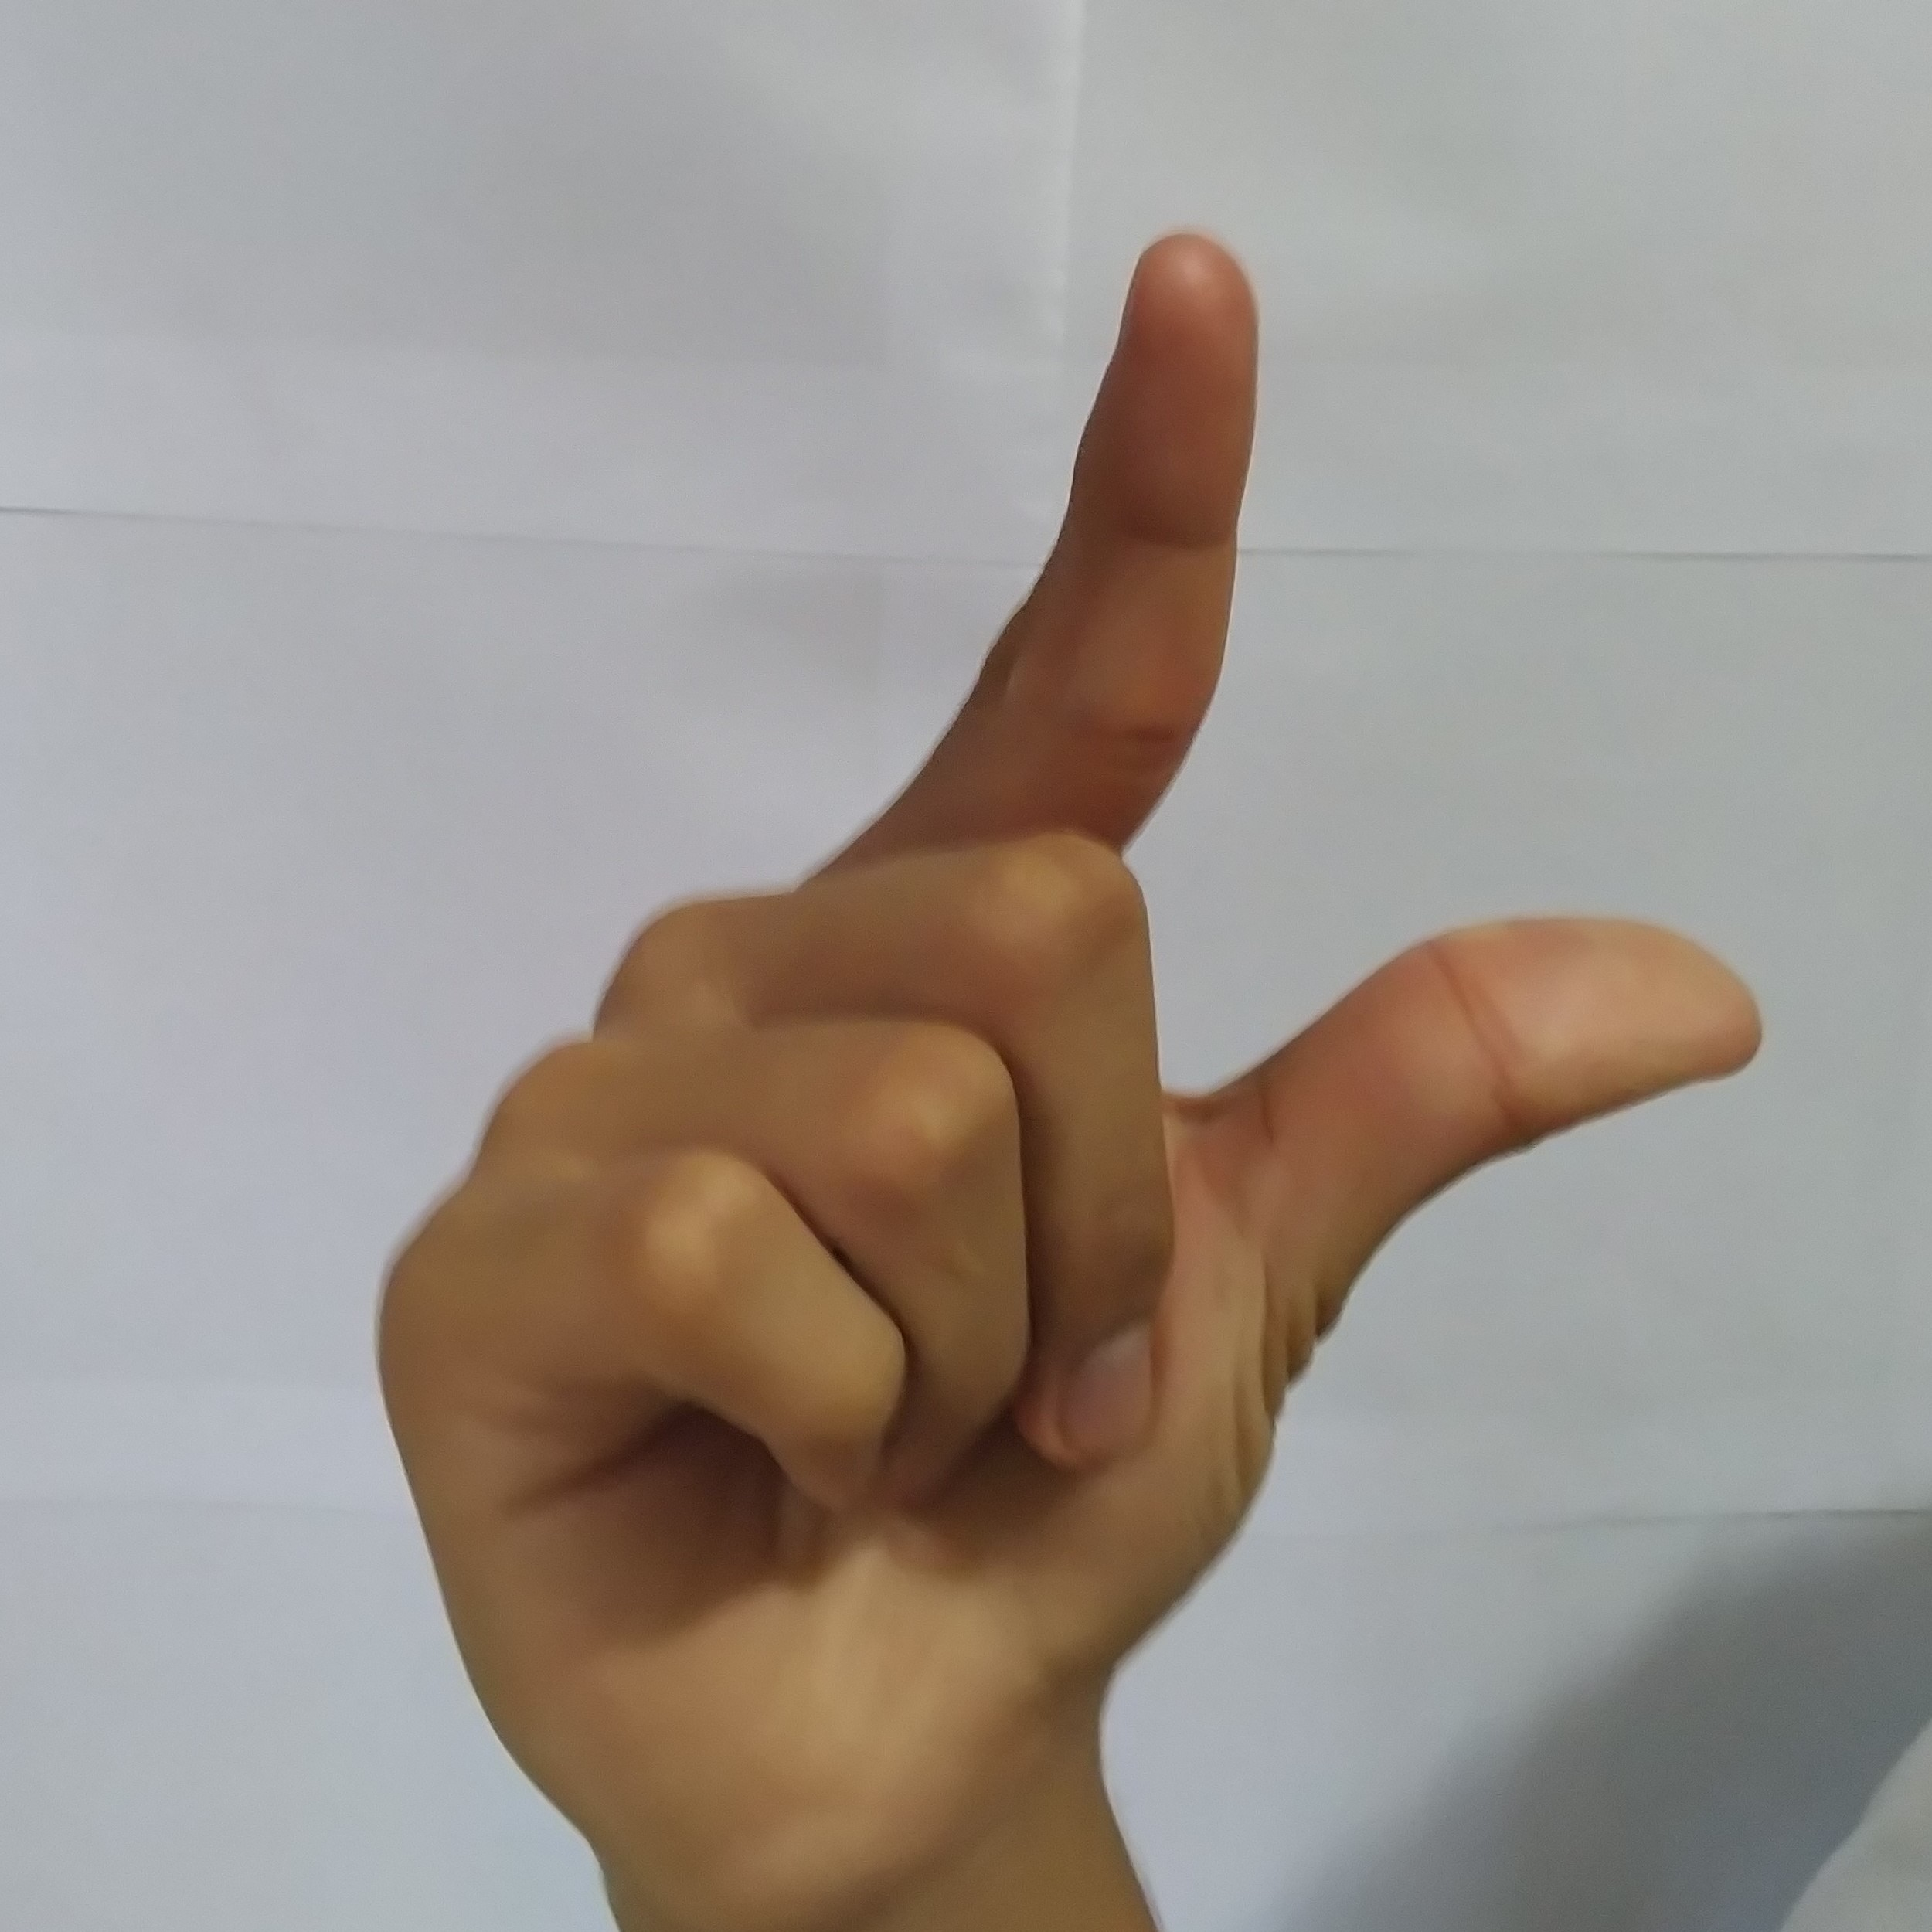L: (349, 205, 1783, 1826)
